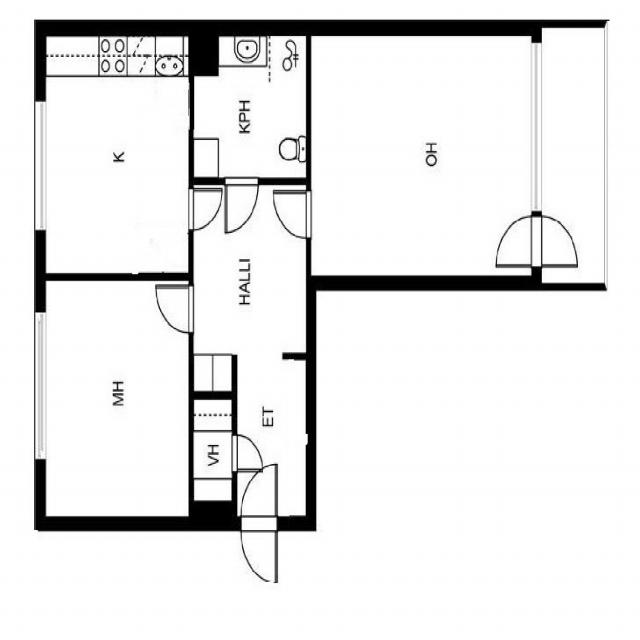door: (241, 516, 277, 584), (241, 464, 277, 532), (530, 216, 576, 266), (496, 216, 542, 266), (273, 191, 311, 238), (156, 285, 194, 332), (225, 177, 258, 231), (189, 188, 222, 229), (232, 434, 263, 470)
